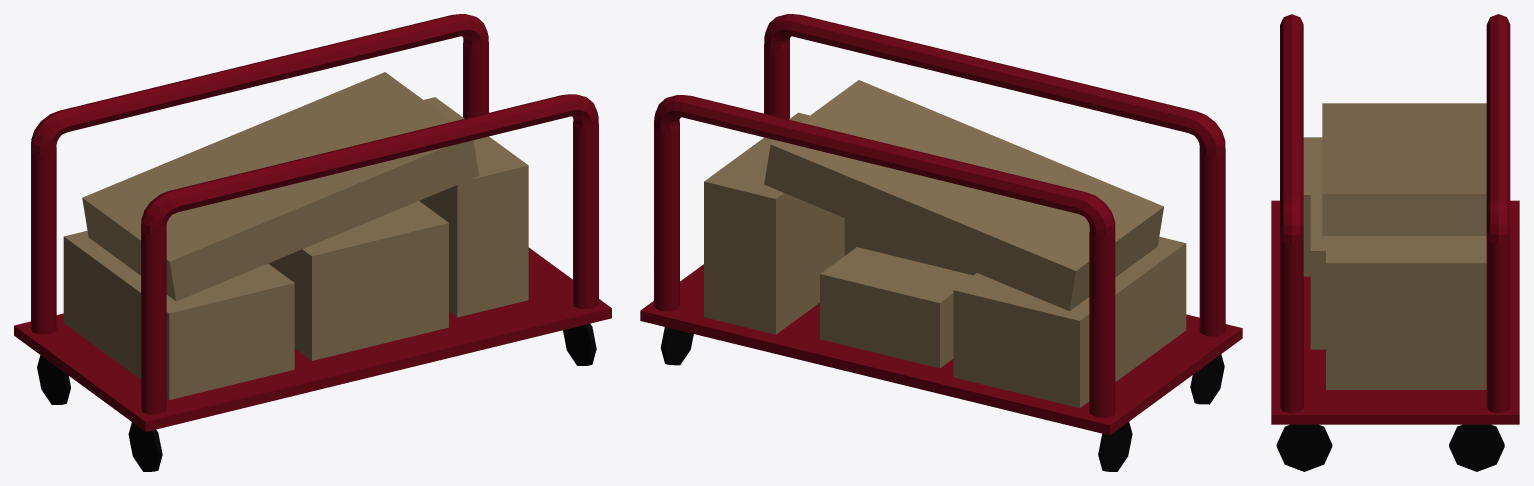
File: MailTrolley02.FBX
3 renders of one model, left to right at view 1: azimuth 30°, elevation 25°; view 2: azimuth 150°, elevation 25°; view 3: azimuth 270°, elevation 25°, orthographic. The views are drawn at different scales.
Visible parts, largest first — view 1: trolley; view 2: trolley; view 3: trolley.
Boxes of the visible parts, x1,y1,x2,y2 form: trolley: (14, 14, 611, 471); trolley: (640, 14, 1242, 471); trolley: (1271, 14, 1519, 471).
Bounding box in the file's own units: 39.41 × 22.62 × 19.29.
